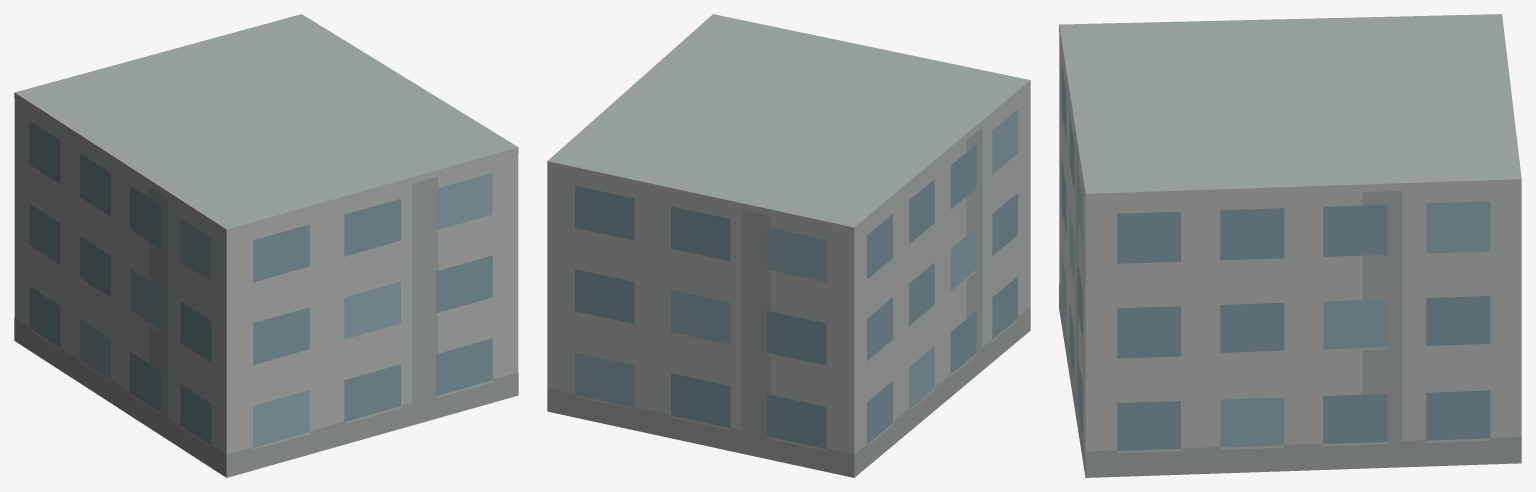
Rendered from survey-upis-32489322.glb.
The picture shows the model from 3 angles, left to right: view 1: azimuth 30°, elevation 25°; view 2: azimuth 150°, elevation 25°; view 3: azimuth 270°, elevation 25°; orthographic projection. The views are drawn at different scales.
Visible parts, largest first — view 1: survey-upis-32489322.tmp; view 2: survey-upis-32489322.tmp; view 3: survey-upis-32489322.tmp.
Boxes of the visible parts, x1,y1,x2,y2 form: survey-upis-32489322.tmp: [14, 14, 518, 477]; survey-upis-32489322.tmp: [547, 14, 1030, 477]; survey-upis-32489322.tmp: [1059, 14, 1521, 477].
Size of the model in its own units: 12.43 by 9.15 by 13.51.
